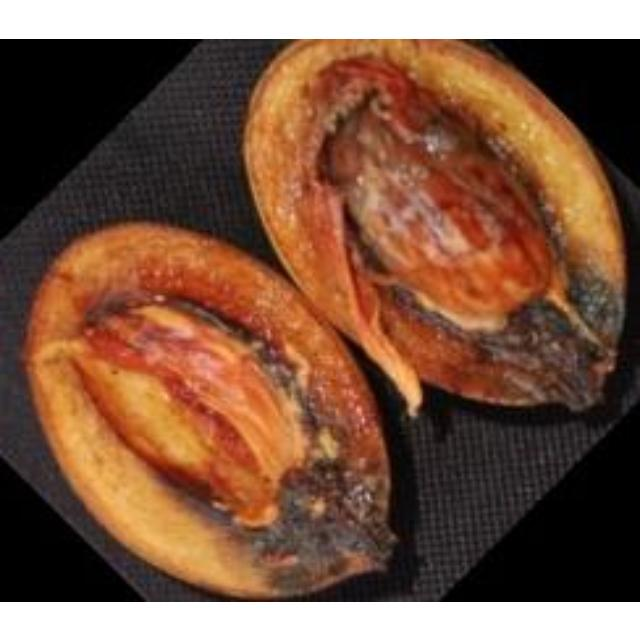damaged: (244, 38, 622, 408), (26, 222, 393, 594)
